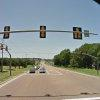Traffic light: (3, 17, 95, 50)
